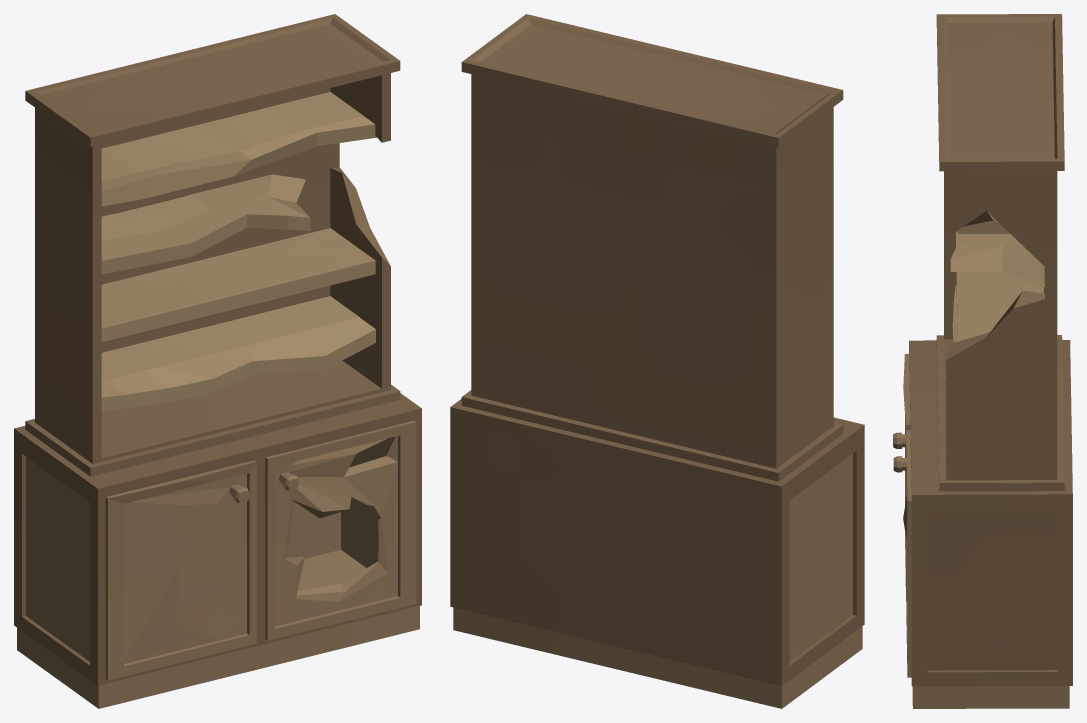
Rendered from shelf_4_A.glb.
3 renders of one model, left to right at view 1: azimuth 30°, elevation 25°; view 2: azimuth 150°, elevation 25°; view 3: azimuth 270°, elevation 25°, orthographic. The views are drawn at different scales.
Parts seen in each view (by area): view 1: shelf_upper_A, shelf_A, shelf_door_A, box_A; view 2: shelf_upper_A, box_A; view 3: shelf_upper_A, box_A, shelf_A, shelf_door_A.
Boxes of the visible parts, x1=… form: shelf_upper_A: x1=25, y1=14, x2=400, y2=476; shelf_A: x1=101, y1=92, x2=376, y2=411; shelf_door_A: x1=105, y1=420, x2=416, y2=680; box_A: x1=14, y1=393, x2=421, y2=708; shelf_upper_A: x1=461, y1=14, x2=843, y2=481; box_A: x1=450, y1=399, x2=864, y2=708; shelf_upper_A: x1=936, y1=14, x2=1064, y2=491; box_A: x1=909, y1=340, x2=1072, y2=708; shelf_A: x1=950, y1=220, x2=1044, y2=342; shelf_door_A: x1=893, y1=354, x2=911, y2=677.
Size of the model in its own units: 1.07 by 1.75 by 0.5224.
1 material, 1 textured.
